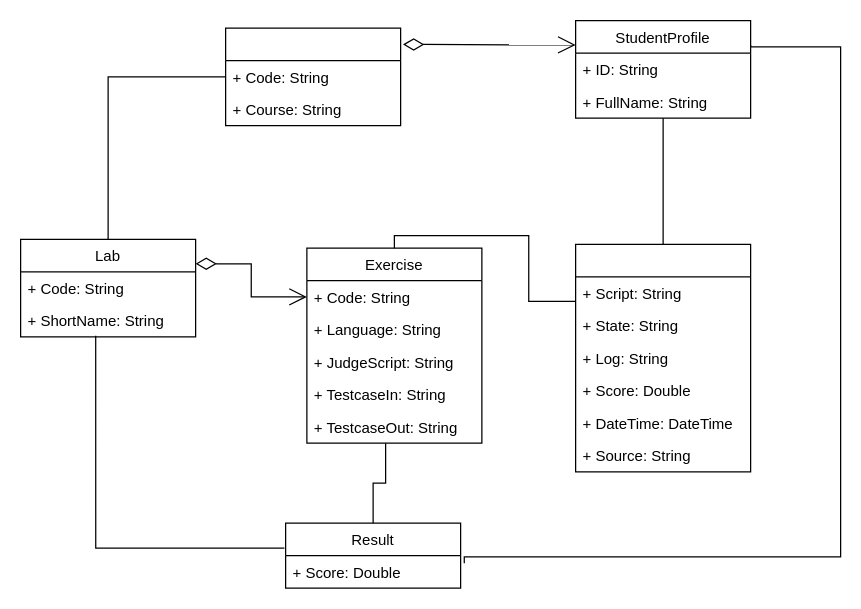
The diagram is 861 pixels wide and 609 high, and some of its shapes have lost their labels. Each missing label, with the box of its shape:
ClassProfile: (224, 27, 401, 126)
Submission: (574, 243, 751, 472)
